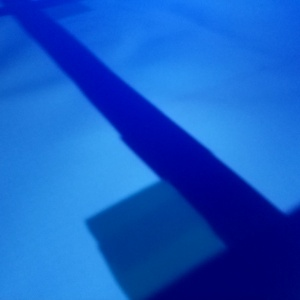bottom_left: (181, 125, 300, 197)
